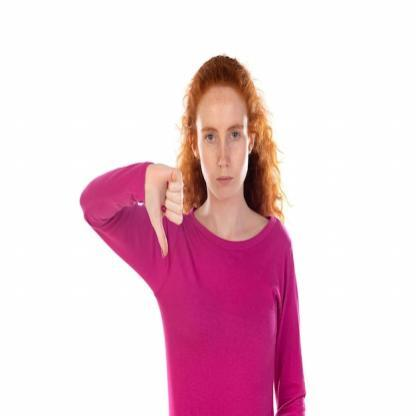thumb_down: (146, 159, 186, 258)
